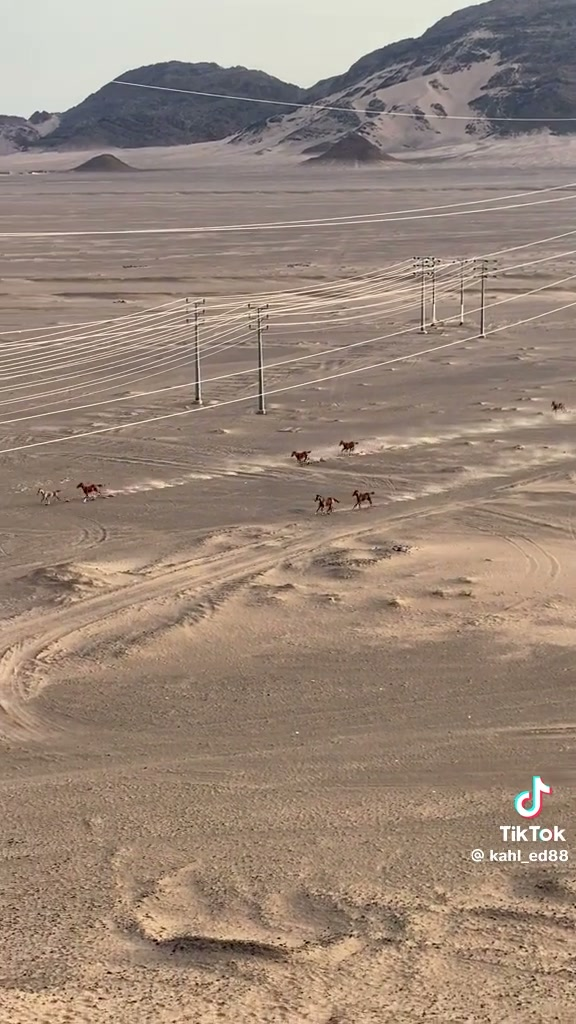animal: (77, 482, 102, 501), (314, 494, 338, 513), (353, 489, 374, 508), (37, 488, 60, 504), (291, 451, 310, 464), (339, 440, 357, 452), (551, 400, 565, 411)
vehicle_track: (0, 535, 277, 741)
